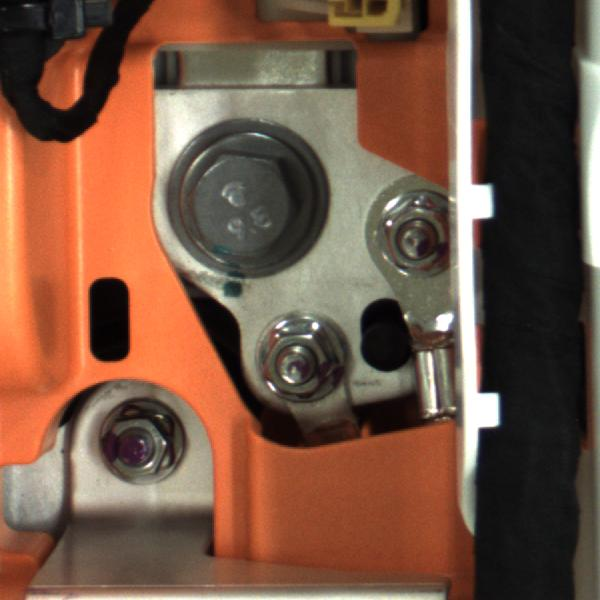nut_b: (164, 112, 317, 290)
screw_s: (91, 395, 217, 505), (363, 181, 471, 288), (258, 310, 351, 412)
